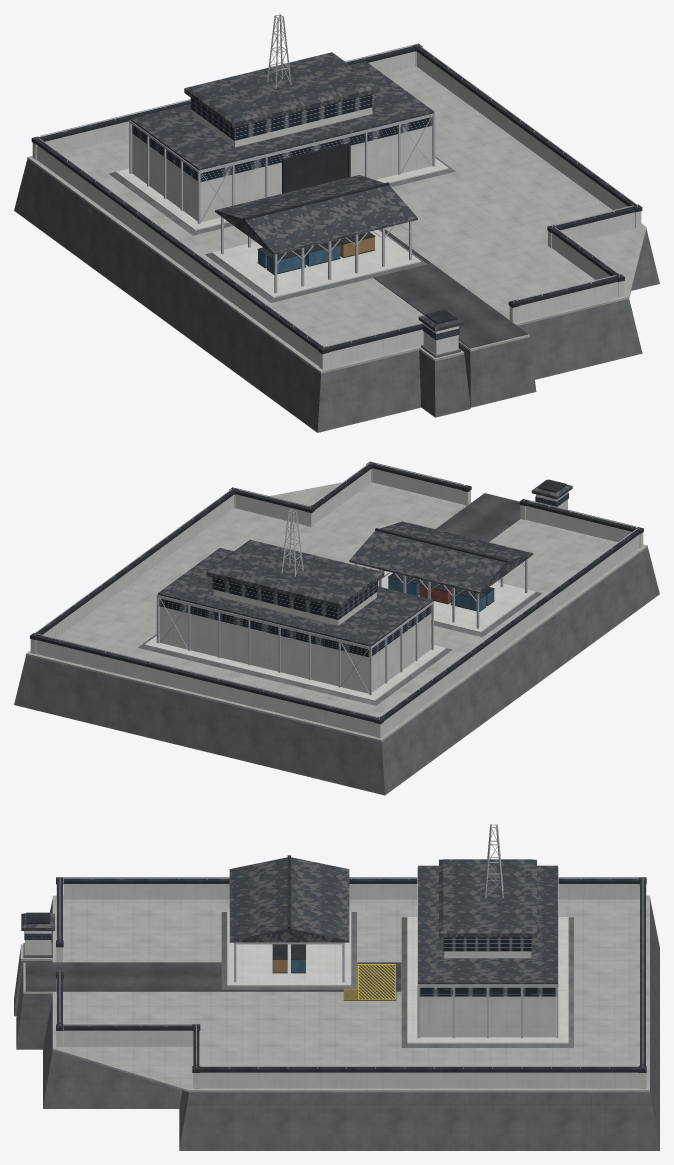
The model's file is naval_command.glb.
3 renders of one model, top to bottom at view 1: azimuth 30°, elevation 25°; view 2: azimuth 150°, elevation 25°; view 3: azimuth 270°, elevation 25°, orthographic. The views are drawn at different scales.
Parts seen in each view (by area): view 1: NVC_L1_ConcMid, NVC_L1_ConcDark, NVC_L1_ConcLight, NVC_L1_RoofCorr, NVC_L1_SteelDark, NVC_L1_SteelTruss, NVC_L1_Asphalt, NVC_L1_WindowDark, NVC_L1_DoorCorr, NVC_L1_ContBlue; view 2: NVC_L1_ConcDark, NVC_L1_ConcLight, NVC_L1_ConcMid, NVC_L1_RoofCorr, NVC_L1_SteelDark, NVC_L1_SteelTruss, NVC_L1_WindowDark, NVC_L1_Asphalt, NVC_L1_ContBlue; view 3: NVC_L1_ConcMid, NVC_L1_ConcDark, NVC_L1_ConcLight, NVC_L1_RoofCorr, NVC_L1_SteelDark, NVC_L1_Asphalt, NVC_L1_SteelTruss, NVC_L1_WindowDark, NVC_L1_HatchZone.
Part boxes in pixels (x1,y1,x2,y2): NVC_L1_ConcMid: (27,66,646,373); NVC_L1_ConcDark: (14,154,659,432); NVC_L1_ConcLight: (32,51,641,369); NVC_L1_RoofCorr: (130,52,463,331); NVC_L1_SteelDark: (31,43,642,354); NVC_L1_SteelTruss: (36,14,637,348); NVC_L1_Asphalt: (373,229,527,348); NVC_L1_WindowDark: (132,93,459,340); NVC_L1_DoorCorr: (285,147,347,192); NVC_L1_ContBlue: (258,240,340,273); NVC_L1_ConcDark: (14,547,659,795); NVC_L1_ConcLight: (30,468,643,738); NVC_L1_ConcMid: (26,482,647,741); NVC_L1_RoofCorr: (157,479,572,646); NVC_L1_SteelDark: (30,461,643,724); NVC_L1_SteelTruss: (34,461,639,719); NVC_L1_WindowDark: (159,492,568,657); NVC_L1_Asphalt: (378,493,520,571); NVC_L1_ContBlue: (388,577,494,610); NVC_L1_ConcMid: (20,895,649,1092); NVC_L1_ConcDark: (14,898,659,1150); NVC_L1_ConcLight: (25,882,646,1088); NVC_L1_RoofCorr: (21,857,557,984); NVC_L1_SteelDark: (26,855,646,1072); NVC_L1_Asphalt: (25,962,401,991); NVC_L1_SteelTruss: (59,824,643,1068); NVC_L1_WindowDark: (24,931,556,996); NVC_L1_HatchZone: (343,963,396,1000).
Size of the model in its own units: 77.5 by 37.91 by 104.
Materials: 13 (13 with a texture image).
